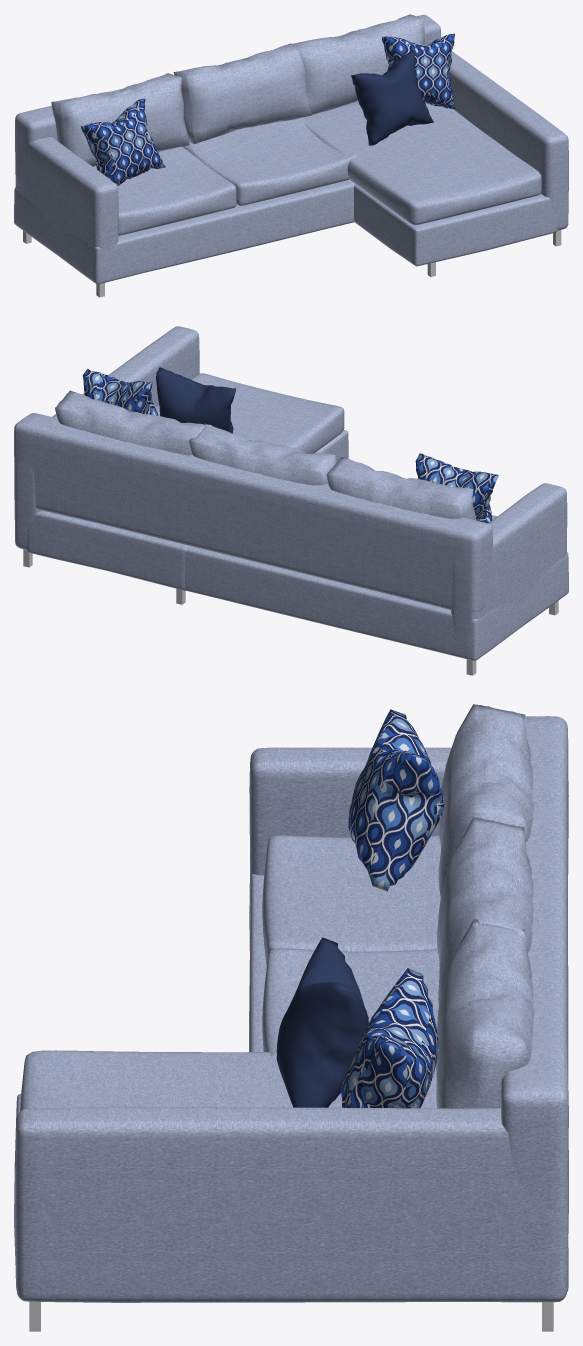
Rendered from hotel-sectional.glb.
3 views of the same model, one above another, from view 1: azimuth 30°, elevation 25°; view 2: azimuth 150°, elevation 25°; view 3: azimuth 270°, elevation 25° (orthographic). The views are drawn at different scales.
Visible parts, largest first — view 1: heather_grey, pillow_jacquard, pillow_navy2, brushed_metal; view 2: heather_grey, pillow_jacquard, pillow_navy2, brushed_metal; view 3: heather_grey, pillow_jacquard, pillow_navy2.
Part boxes in pixels (<box>): heather_grey: <box>14,14,568,284</box>; pillow_jacquard: <box>81,33,455,185</box>; pillow_navy2: <box>351,50,433,145</box>; brushed_metal: <box>23,230,561,297</box>; heather_grey: <box>14,326,568,660</box>; pillow_jacquard: <box>82,369,498,523</box>; pillow_navy2: <box>156,367,236,433</box>; brushed_metal: <box>23,549,558,675</box>; heather_grey: <box>14,704,568,1302</box>; pillow_jacquard: <box>341,709,443,1108</box>; pillow_navy2: <box>276,937,368,1107</box>.
Size of the model in its own units: 2.71 by 0.9641 by 1.66.
Materials: 4 (2 with a texture image).
